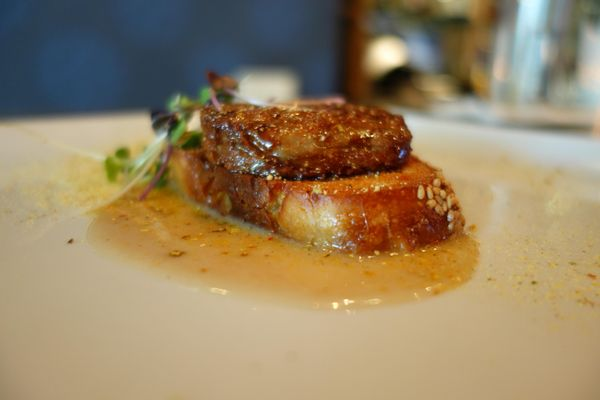sushi: (164, 89, 467, 256)
